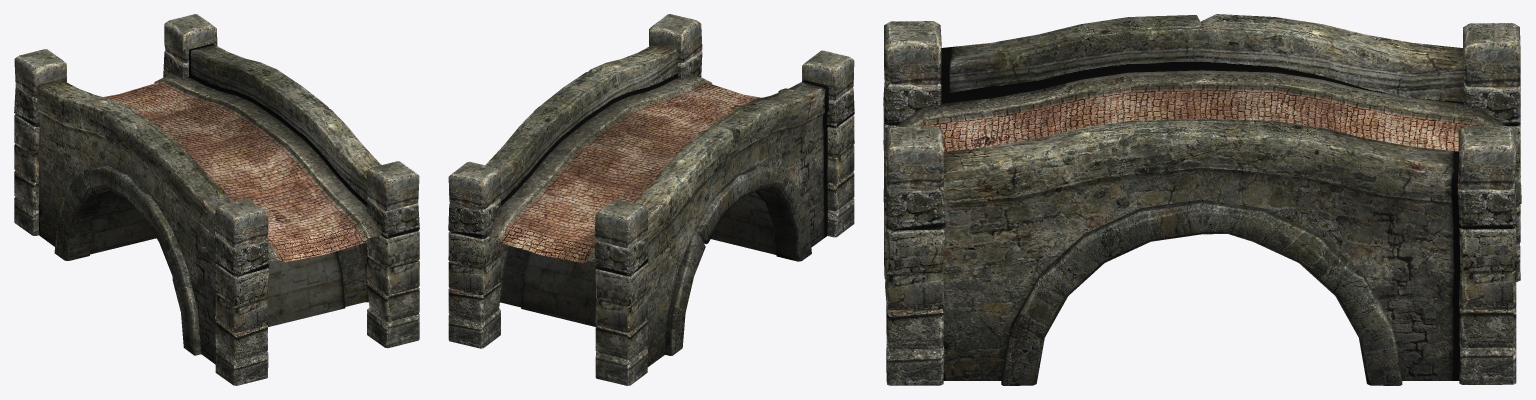
The model's file is bridge_04_small.fbx.
The picture shows the model from 3 angles, left to right: view 1: azimuth 30°, elevation 25°; view 2: azimuth 150°, elevation 25°; view 3: azimuth 270°, elevation 25°; orthographic projection. The views are drawn at different scales.
Parts seen in each view (by area): view 1: Mesh Object; view 2: Mesh Object; view 3: Mesh Object.
Boxes of the visible parts, x1=… form: Mesh Object: x1=14, y1=14, x2=419, y2=385; Mesh Object: x1=448, y1=14, x2=854, y2=385; Mesh Object: x1=883, y1=14, x2=1521, y2=385.
Bounding box in the file's own units: 4.57 × 4.05 × 9.45.
